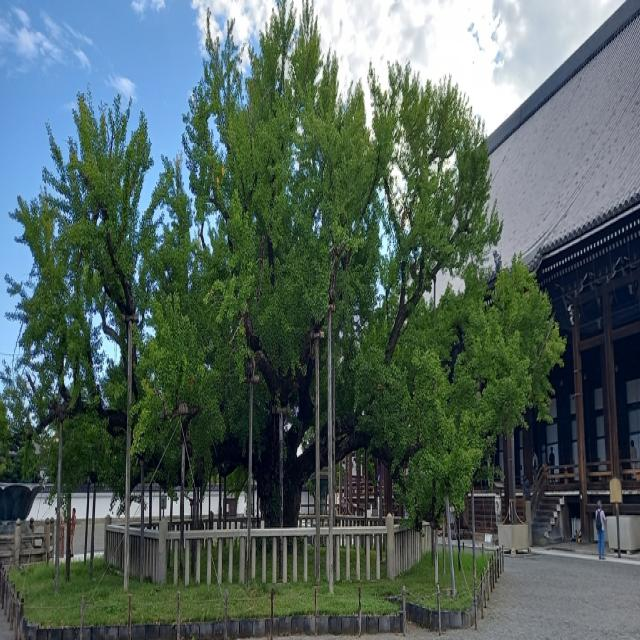ginkgo: (0, 0, 568, 551)
